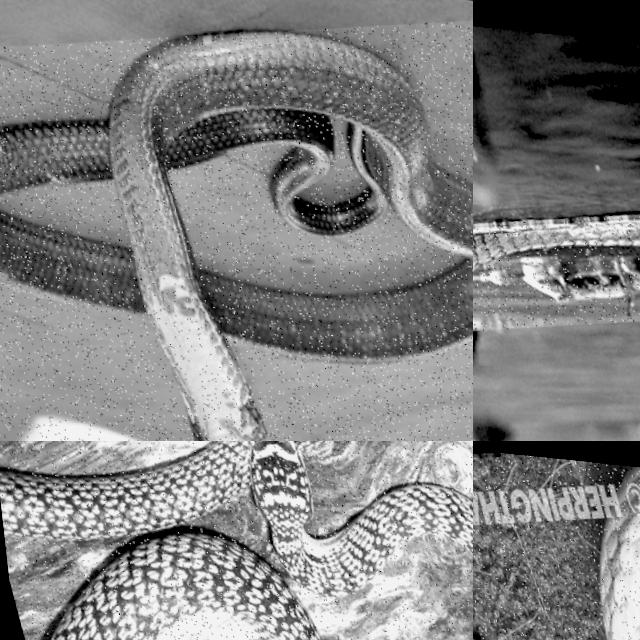Bungarus fasciatus: (600, 467, 639, 639)
Chrysopelea ornata: (0, 441, 472, 594)
Ophiophagus hannah: (0, 31, 472, 440), (473, 215, 639, 264)
